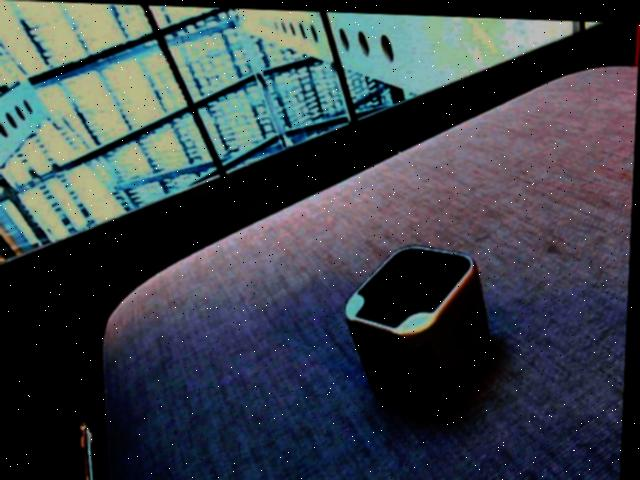adapter: (343, 239, 496, 408)
